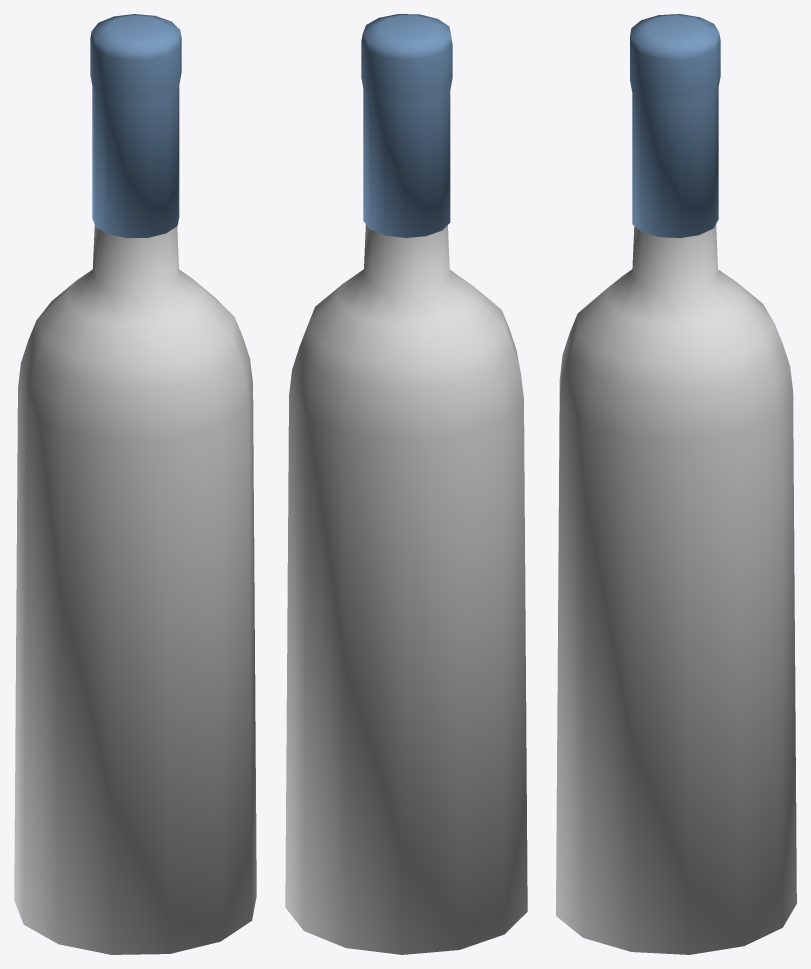
The model's file is GreyGoose.fbx.
3 renders of one model, left to right at view 1: azimuth 30°, elevation 25°; view 2: azimuth 150°, elevation 25°; view 3: azimuth 270°, elevation 25°, orthographic.
Parts seen in each view (by area): view 1: Verre, Bouchon; view 2: Verre, Bouchon; view 3: Verre, Bouchon.
Boxes of the visible parts, bbox=[...] form: Verre: bbox=[14, 225, 256, 954]; Bouchon: bbox=[90, 14, 181, 238]; Verre: bbox=[285, 224, 527, 954]; Bouchon: bbox=[361, 14, 452, 237]; Verre: bbox=[556, 224, 796, 954]; Bouchon: bbox=[630, 14, 720, 238].
Size of the model in its own units: 199 by 797 by 197.
